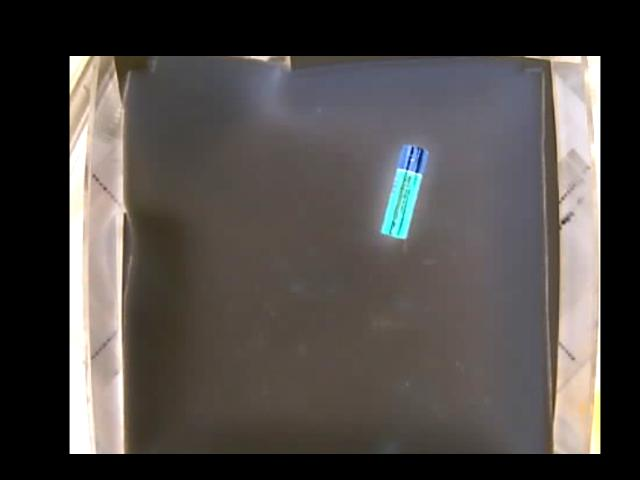Battery: (379, 143, 428, 239)
